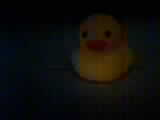duck: (70, 12, 130, 82)
